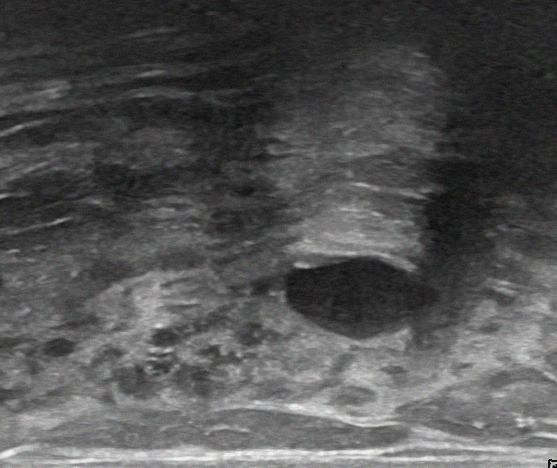Benign: (282, 251, 415, 336)
